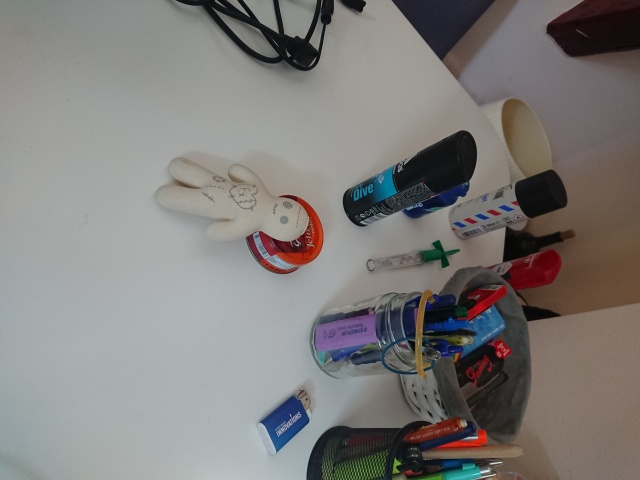Gavrilovic Pork Liver Pate 100g: (243, 193, 325, 276)
